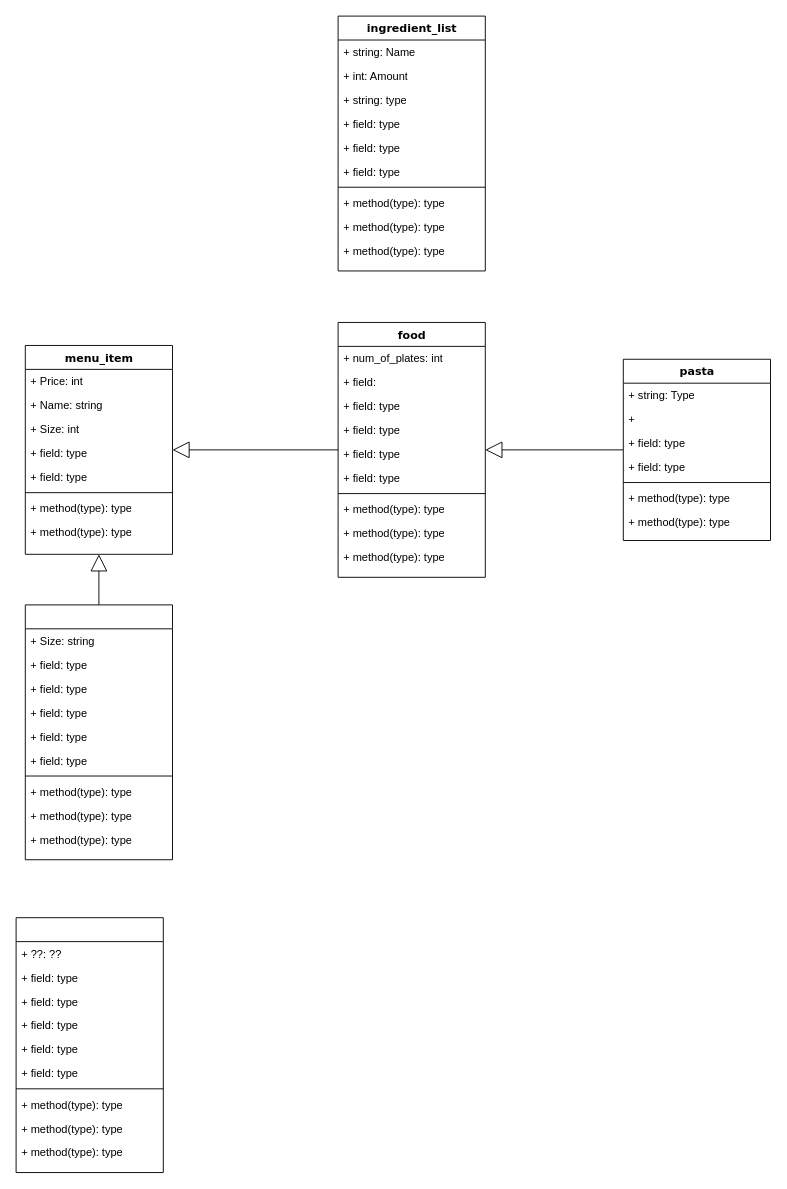
This 787x1189 diagram has some shape labels left out. The shapes that lost their labels are listed below. From the top down, each one's box as (x1, y1, x2, y2) in pixels, then its label:
(24, 604, 172, 860): Drink
(15, 917, 163, 1173): Soft Drink
